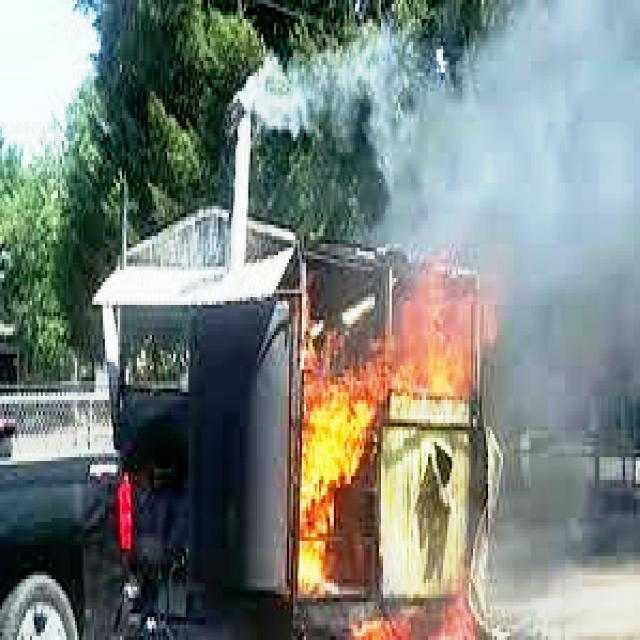api: (290, 317, 395, 618), (397, 268, 495, 416)
